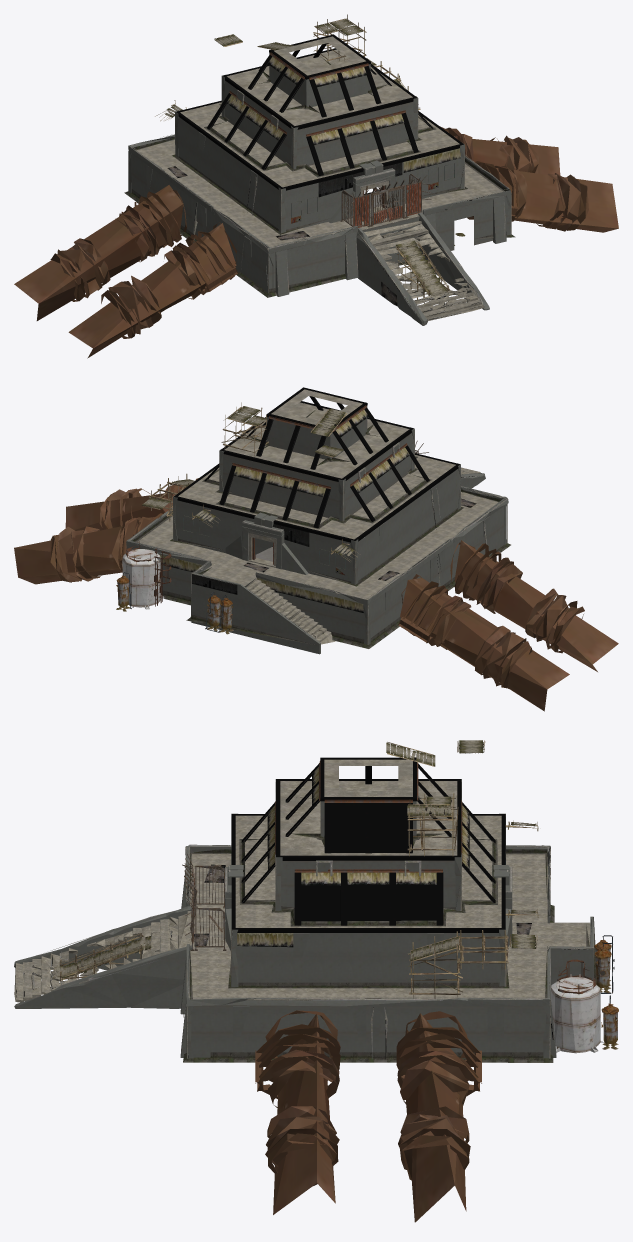
File: jungle_ziggurat_a-map.glb
3 views of the same model, one above another, from view 1: azimuth 30°, elevation 25°; view 2: azimuth 150°, elevation 25°; view 3: azimuth 270°, elevation 25° (orthographic). The views are drawn at different scales.
Parts seen in each view (by area): view 1: ziggurat_shell_exterior_LOD0, ziggurat_shell_exterior_decals_LOD0, ziggurat_shell_exterior_pipes_LOD0, jungle_ziggurat_security_entrance_b_LOD0; view 2: ziggurat_shell_exterior_LOD0, ziggurat_shell_exterior_decals_LOD0, ziggurat_shell_exterior_pipes_LOD0, jungle_ziggurat_tank_large_a, condenser_tank_small_a; view 3: ziggurat_shell_exterior_LOD0, ziggurat_shell_exterior_decals_LOD0, ziggurat_shell_exterior_pipes_LOD0, jungle_ziggurat_tank_large_a, jungle_ziggurat_security_entrance_b_LOD0, condenser_tank_small_a.
Boxes of the visible parts, box(x1,y1,x2,y2) form: ziggurat_shell_exterior_LOD0: box(128, 14, 511, 325); ziggurat_shell_exterior_decals_LOD0: box(124, 36, 515, 320); ziggurat_shell_exterior_pipes_LOD0: box(14, 126, 618, 358); jungle_ziggurat_security_entrance_b_LOD0: box(340, 174, 431, 227); ziggurat_shell_exterior_LOD0: box(126, 387, 508, 654); ziggurat_shell_exterior_decals_LOD0: box(126, 389, 510, 648); ziggurat_shell_exterior_pipes_LOD0: box(14, 478, 618, 711); jungle_ziggurat_tank_large_a: box(122, 549, 164, 609); condenser_tank_small_a: box(116, 572, 233, 634); ziggurat_shell_exterior_LOD0: box(14, 740, 595, 1058); ziggurat_shell_exterior_decals_LOD0: box(14, 759, 596, 1062); ziggurat_shell_exterior_pipes_LOD0: box(255, 1010, 481, 1222); jungle_ziggurat_tank_large_a: box(551, 974, 600, 1053); jungle_ziggurat_security_entrance_b_LOD0: box(182, 853, 226, 950); condenser_tank_small_a: box(594, 935, 618, 1049).
Bounding box in the file's own units: 54.79 × 22.37 × 40.94.
Materials: 26 (26 with a texture image).
